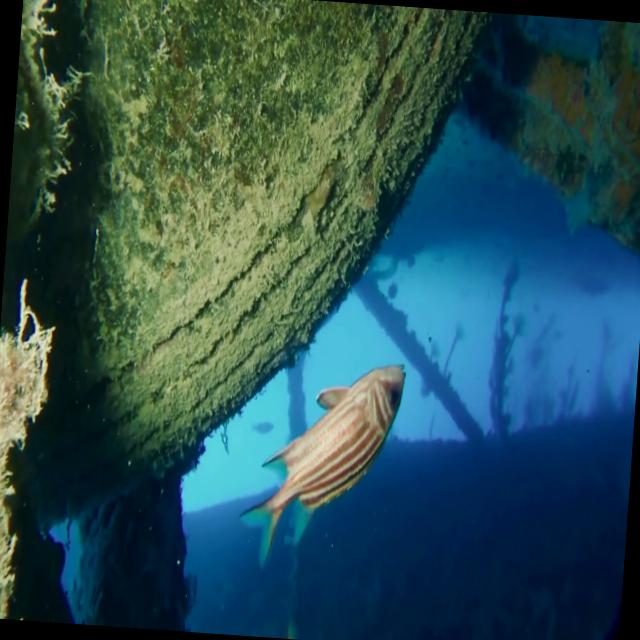Asker Baligi: (234, 350, 406, 580)
